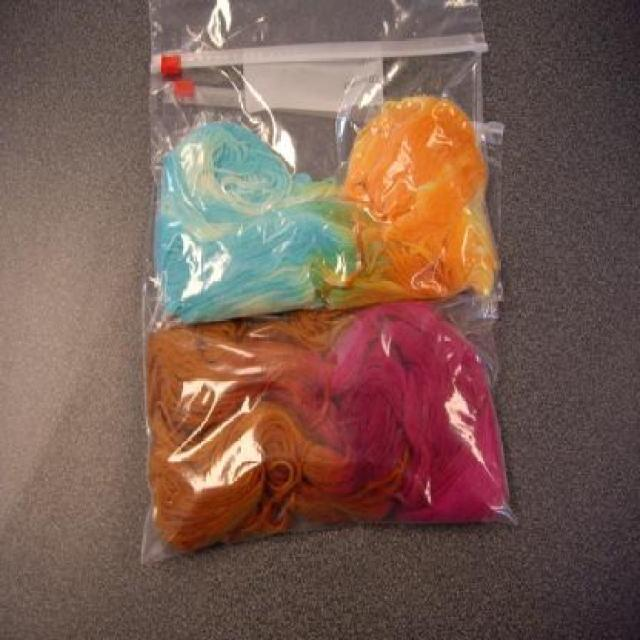plastic bag: (137, 83, 520, 560), (143, 0, 504, 332)
